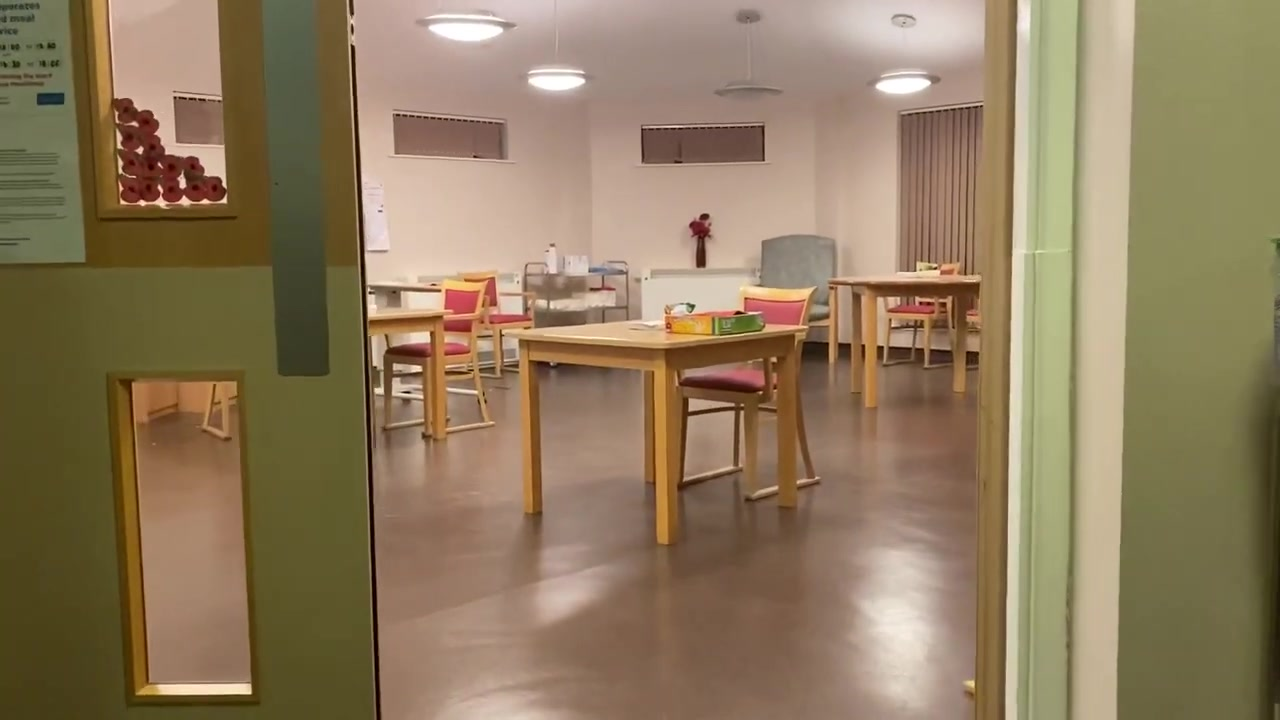chair: (678, 286, 820, 502), (383, 281, 495, 436), (749, 234, 837, 365), (455, 272, 535, 385), (883, 260, 960, 369)
table: (503, 318, 809, 544), (828, 275, 983, 407), (368, 309, 455, 448)
utility_cart: (521, 260, 630, 368)
